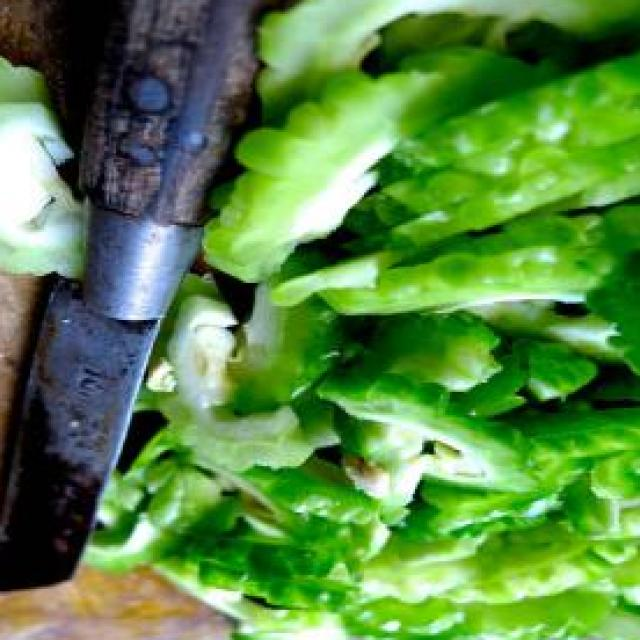knife: (0, 1, 278, 601)
